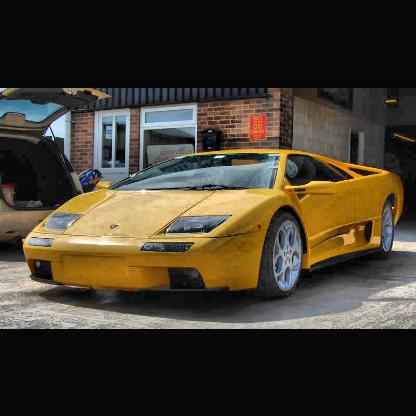Lamborghini Diablo Coupe 2001: (23, 146, 408, 308)
